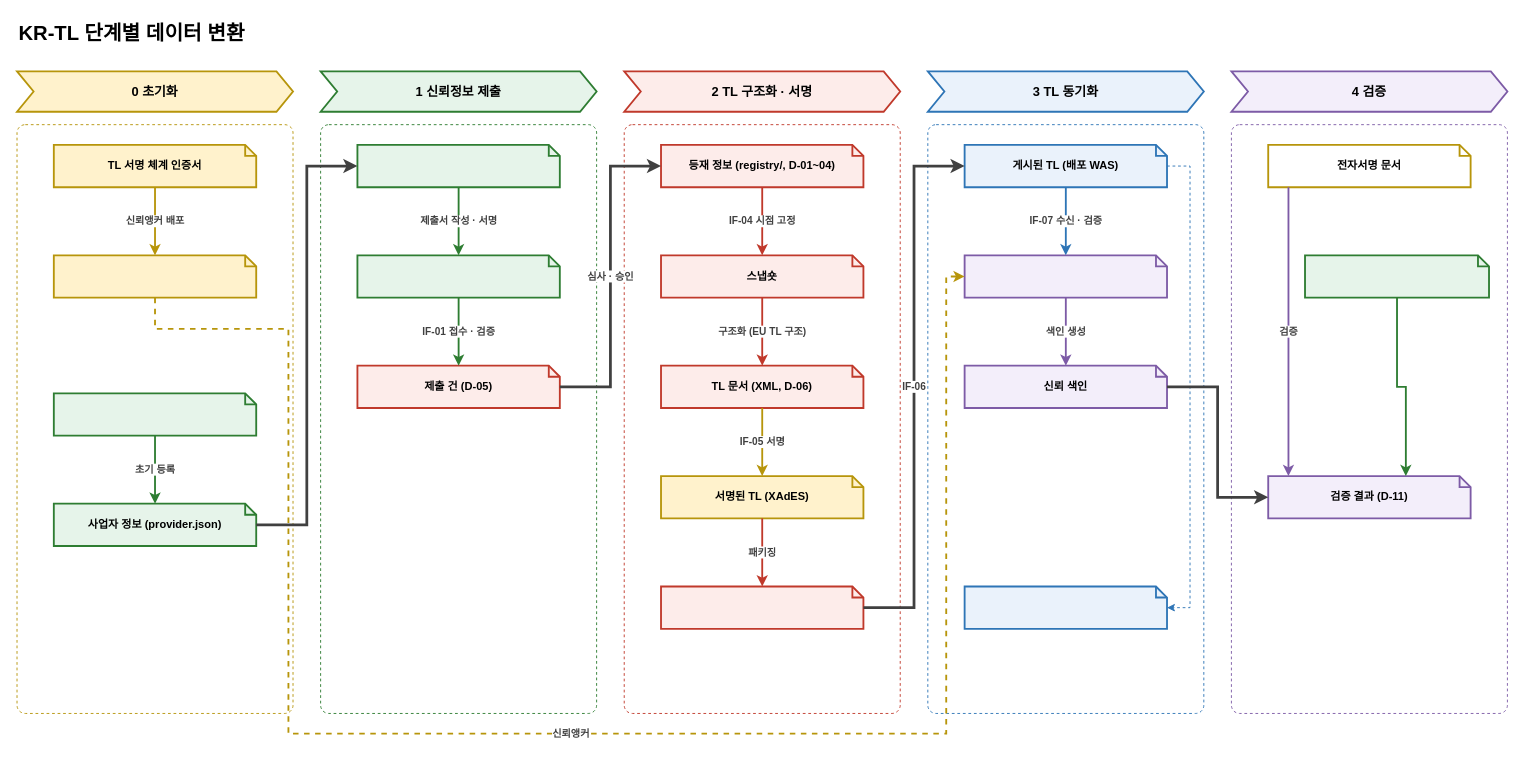
Image size: 1524x757. Some labels were removed from this diagram. The shapes that lost their labels are listed below. From the top down, each one's centre as x and y in pixels, then its label:
point (458, 166): 등재 대상 인증서 · meta.json
point (154, 276): 신뢰앵커 (trust-anchor/)
point (458, 276): 제출서 (사업자 서명)
point (1065, 276): TL 보유본 (cache/)
point (1396, 276): OCSP 응답 · 타임스탬프
point (154, 414): 사업자 인증서 · 키 (pki/)
point (762, 607): 배포 패키지 (D-07)
point (1065, 607): 접속 기록 (D-09)
